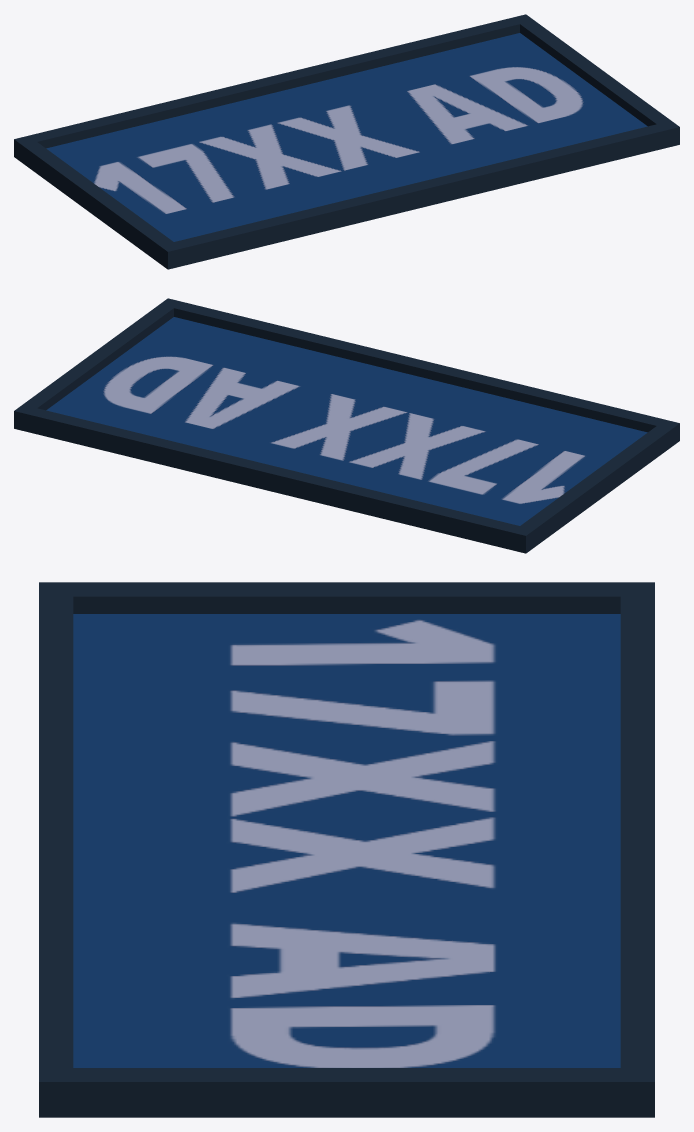
File: Sign_17XXAD.glb
3 renders of one model, top to bottom at view 1: azimuth 30°, elevation 25°; view 2: azimuth 150°, elevation 25°; view 3: azimuth 270°, elevation 25°, orthographic. The views are drawn at different scales.
Parts seen in each view (by area): view 1: 17XXAD; view 2: 17XXAD; view 3: 17XXAD.
Part boxes in pixels (x1,y1,x2,y2): 17XXAD: (14,14,679,269); 17XXAD: (14,298,679,553); 17XXAD: (39,582,654,1117).
Size of the model in its own units: 3.84 by 0.1273 by 2.
1 material, 1 textured.
